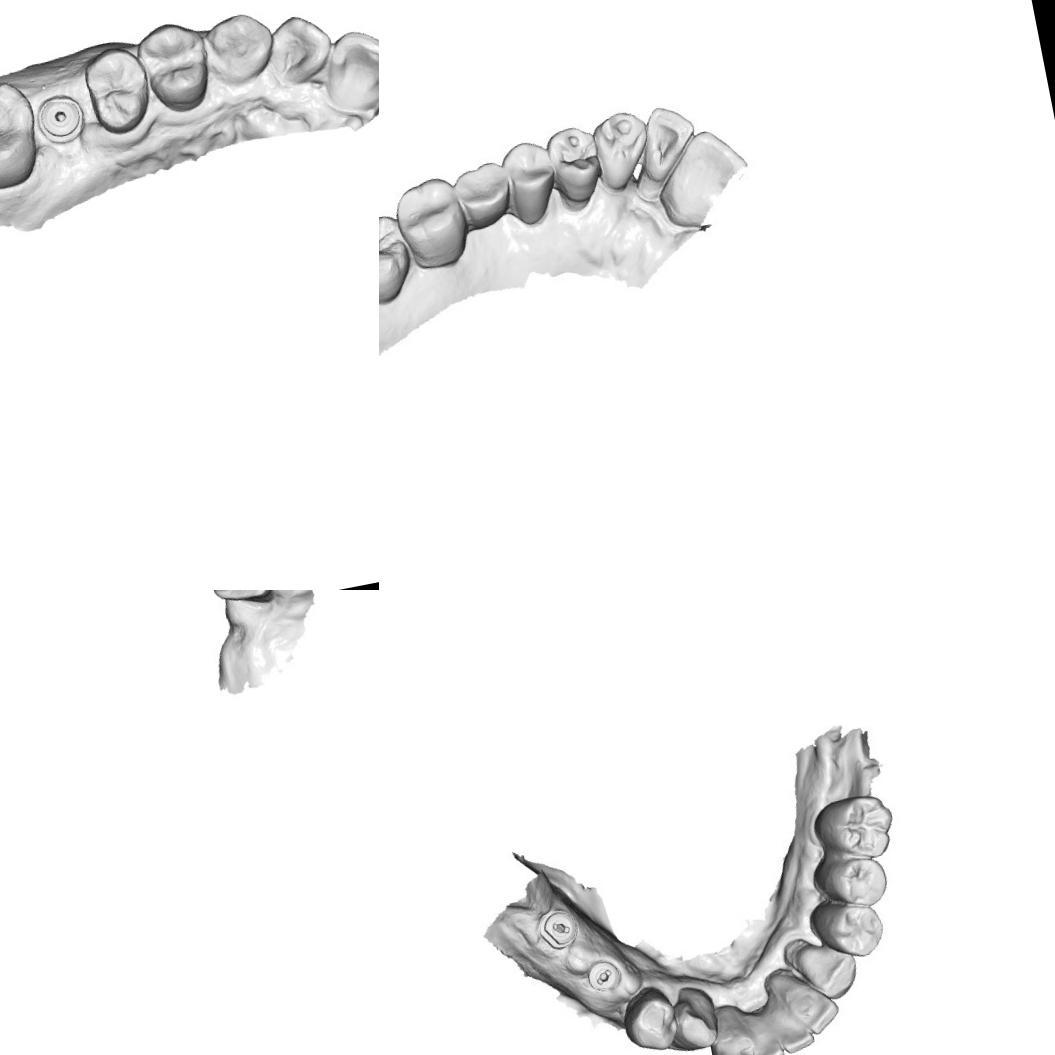canine: (202, 7, 278, 87), (591, 109, 654, 195), (794, 937, 862, 1007), (659, 981, 721, 1055), (196, 590, 279, 614)
implant: (34, 89, 88, 147)
implant_minus: (530, 902, 587, 959), (576, 952, 628, 1000)
incisor: (312, 20, 379, 114), (262, 7, 338, 89), (773, 964, 846, 1048), (638, 102, 701, 184), (662, 121, 740, 180), (764, 995, 817, 1055), (702, 1004, 761, 1055), (743, 1009, 786, 1055)
molar: (806, 787, 903, 868), (394, 173, 472, 268), (0, 75, 46, 199), (379, 211, 415, 308)
premolar: (132, 15, 216, 119), (77, 42, 154, 139), (500, 136, 564, 229), (808, 846, 890, 914), (543, 124, 605, 208), (816, 896, 891, 964), (618, 983, 683, 1052), (454, 158, 514, 226)
